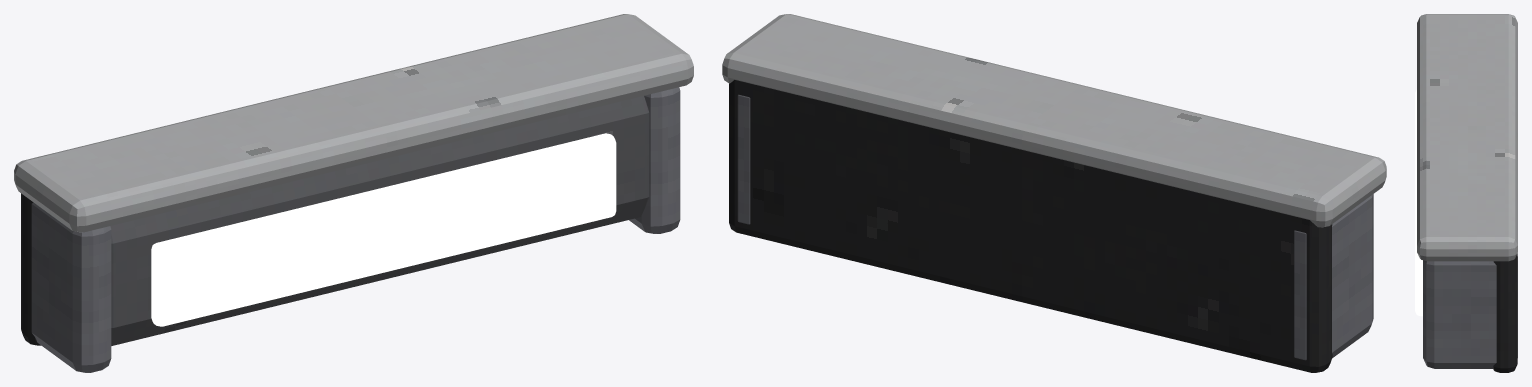
Rendered from decor_hall_wall_light.glb.
The picture shows the model from 3 angles, left to right: view 1: azimuth 30°, elevation 25°; view 2: azimuth 150°, elevation 25°; view 3: azimuth 270°, elevation 25°; orthographic projection. The views are drawn at different scales.
Visible parts, largest first — view 1: DEC_HallWallLight__Brow, DEC_HallWallLight__Diffuser, DEC_HallWallLight__Housing, DEC_HallWallLight__Cap_0, DEC_HallWallLight__Cap_1, DEC_HallWallLight__Mount; view 2: DEC_HallWallLight__Mount, DEC_HallWallLight__Brow, DEC_HallWallLight__Cap_0, DEC_HallWallLight__Cap_1; view 3: DEC_HallWallLight__Brow, DEC_HallWallLight__Cap_1, DEC_HallWallLight__Mount, DEC_HallWallLight__Diffuser.
Part boxes in pixels (bbox=[...]): DEC_HallWallLight__Brow: bbox=[14, 14, 693, 232]; DEC_HallWallLight__Diffuser: bbox=[151, 133, 616, 326]; DEC_HallWallLight__Housing: bbox=[110, 96, 649, 345]; DEC_HallWallLight__Cap_0: bbox=[31, 202, 111, 372]; DEC_HallWallLight__Cap_1: bbox=[629, 87, 680, 233]; DEC_HallWallLight__Mount: bbox=[21, 193, 40, 345]; DEC_HallWallLight__Mount: bbox=[729, 80, 1332, 372]; DEC_HallWallLight__Brow: bbox=[722, 14, 1386, 227]; DEC_HallWallLight__Cap_0: bbox=[1294, 194, 1373, 360]; DEC_HallWallLight__Cap_1: bbox=[737, 94, 750, 224]; DEC_HallWallLight__Brow: bbox=[1417, 14, 1517, 261]; DEC_HallWallLight__Cap_1: bbox=[1423, 256, 1517, 368]; DEC_HallWallLight__Mount: bbox=[1493, 253, 1517, 372]; DEC_HallWallLight__Diffuser: bbox=[1415, 89, 1422, 316].
Bounding box in the file's own units: 0.92 × 0.2575 × 0.1735.
5 materials, 4 textured.
